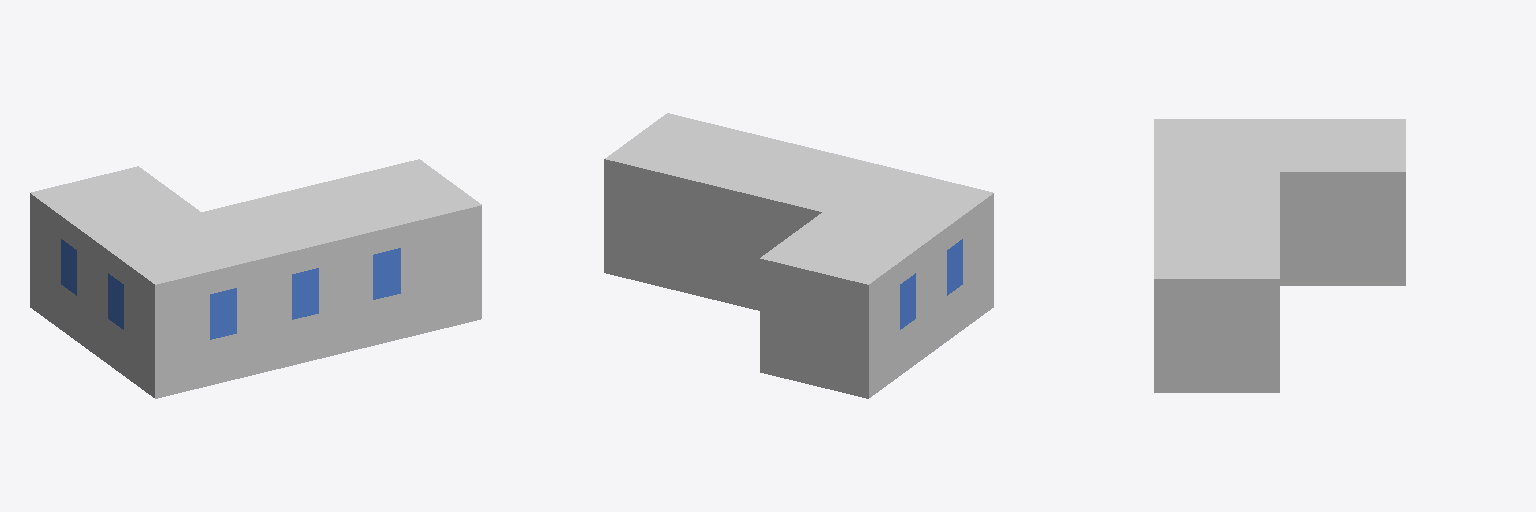
File: CaseStudy2_orig.obj
3 views of the same model, side by side, from view 1: azimuth 30°, elevation 25°; view 2: azimuth 150°, elevation 25°; view 3: azimuth 270°, elevation 25° (orthographic).
Parts seen in each view (by area): view 1: Mesh1 Model; view 2: Mesh1 Model; view 3: Mesh1 Model.
Boxes of the visible parts, box(x1,y1,x2,y2) form: Mesh1 Model: box(30, 159, 481, 398); Mesh1 Model: box(604, 113, 993, 398); Mesh1 Model: box(1154, 119, 1405, 392).
Size of the model in its own units: 360 by 120 by 240.